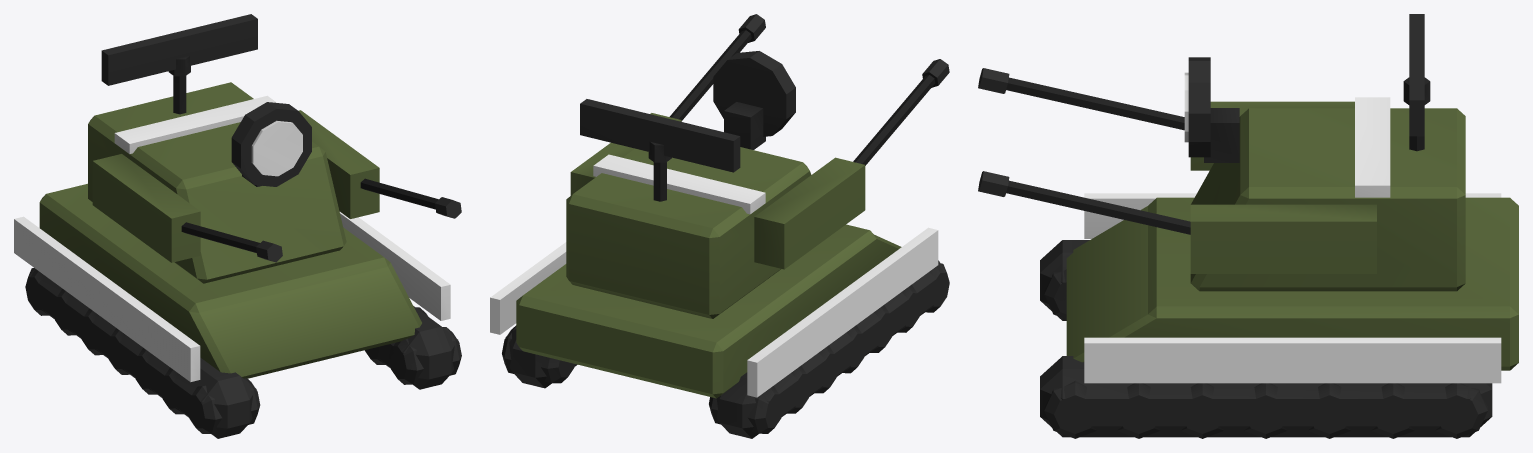
The model's file is ua-gepard.glb.
The picture shows the model from 3 angles, left to right: view 1: azimuth 30°, elevation 25°; view 2: azimuth 150°, elevation 25°; view 3: azimuth 270°, elevation 25°; orthographic projection. The views are drawn at different scales.
Parts seen in each view (by area): view 1: ua-gepard, turret, radar; view 2: ua-gepard, turret, radar; view 3: ua-gepard, turret, radar.
Part boxes in pixels (x1,y1,x2,y2): ua-gepard: (14,183,461,438); turret: (88,76,461,283); radar: (101,14,257,85); ua-gepard: (490,224,949,438); turret: (566,14,949,318); radar: (580,99,740,172); ua-gepard: (1040,193,1518,438); turret: (978,57,1465,291); radar: (1403,14,1430,136).
Size of the model in its own units: 0.8 by 0.785 by 1.22.
